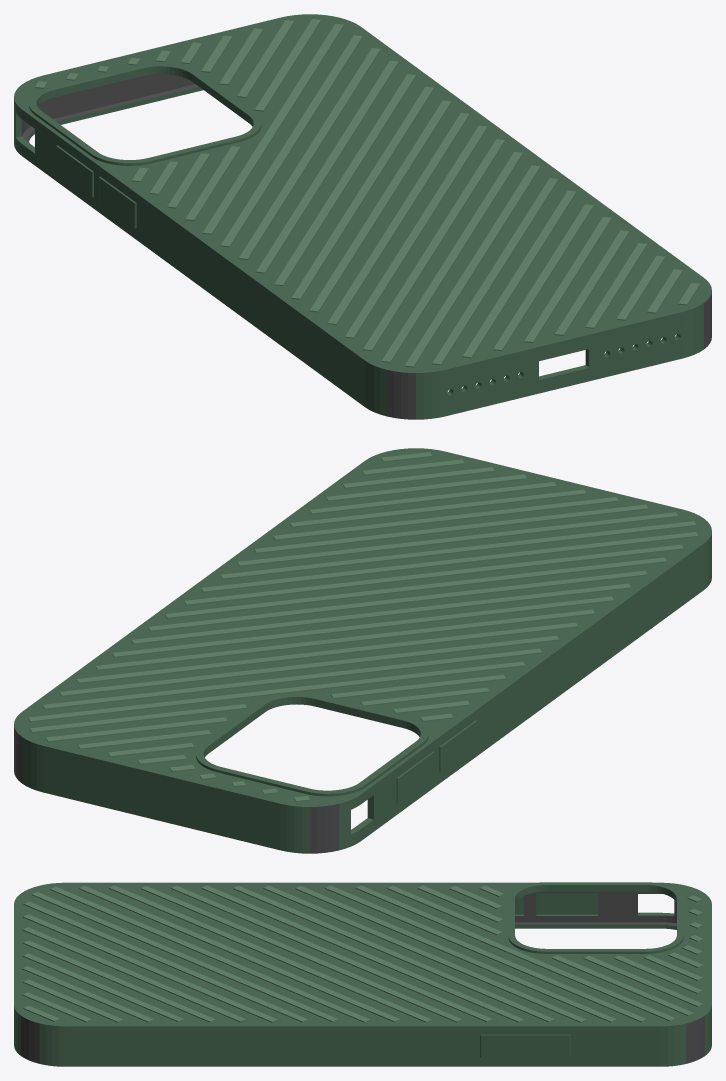
The model's file is kilif-pro-max-dokuma-orman.glb.
3 renders of one model, top to bottom at view 1: azimuth 30°, elevation 25°; view 2: azimuth 150°, elevation 25°; view 3: azimuth 270°, elevation 25°, orthographic. The views are drawn at different scales.
Visible parts, largest first — view 1: Kilif; view 2: Kilif; view 3: Kilif.
Boxes of the visible parts, box(x1,y1,x2,y2) form: Kilif: box(14, 14, 711, 419); Kilif: box(14, 448, 711, 853); Kilif: box(14, 882, 711, 1066).
Size of the model in its own units: 0.0819 by 0.0112 by 0.1664.
